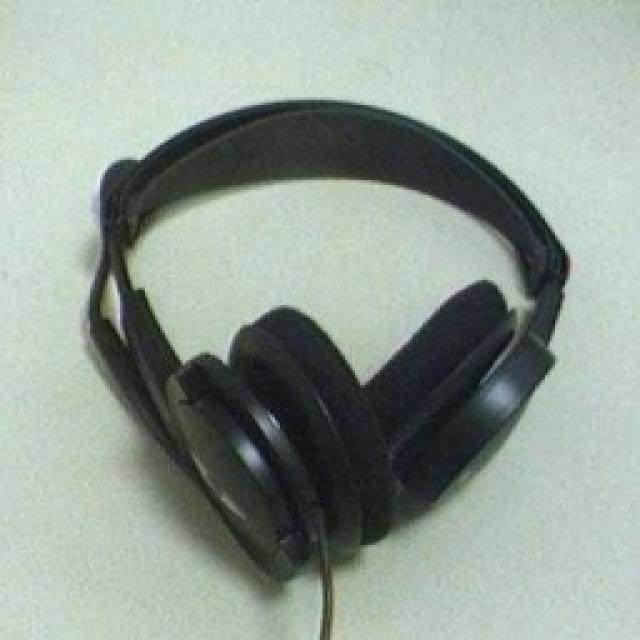headphones: (82, 95, 570, 585)
